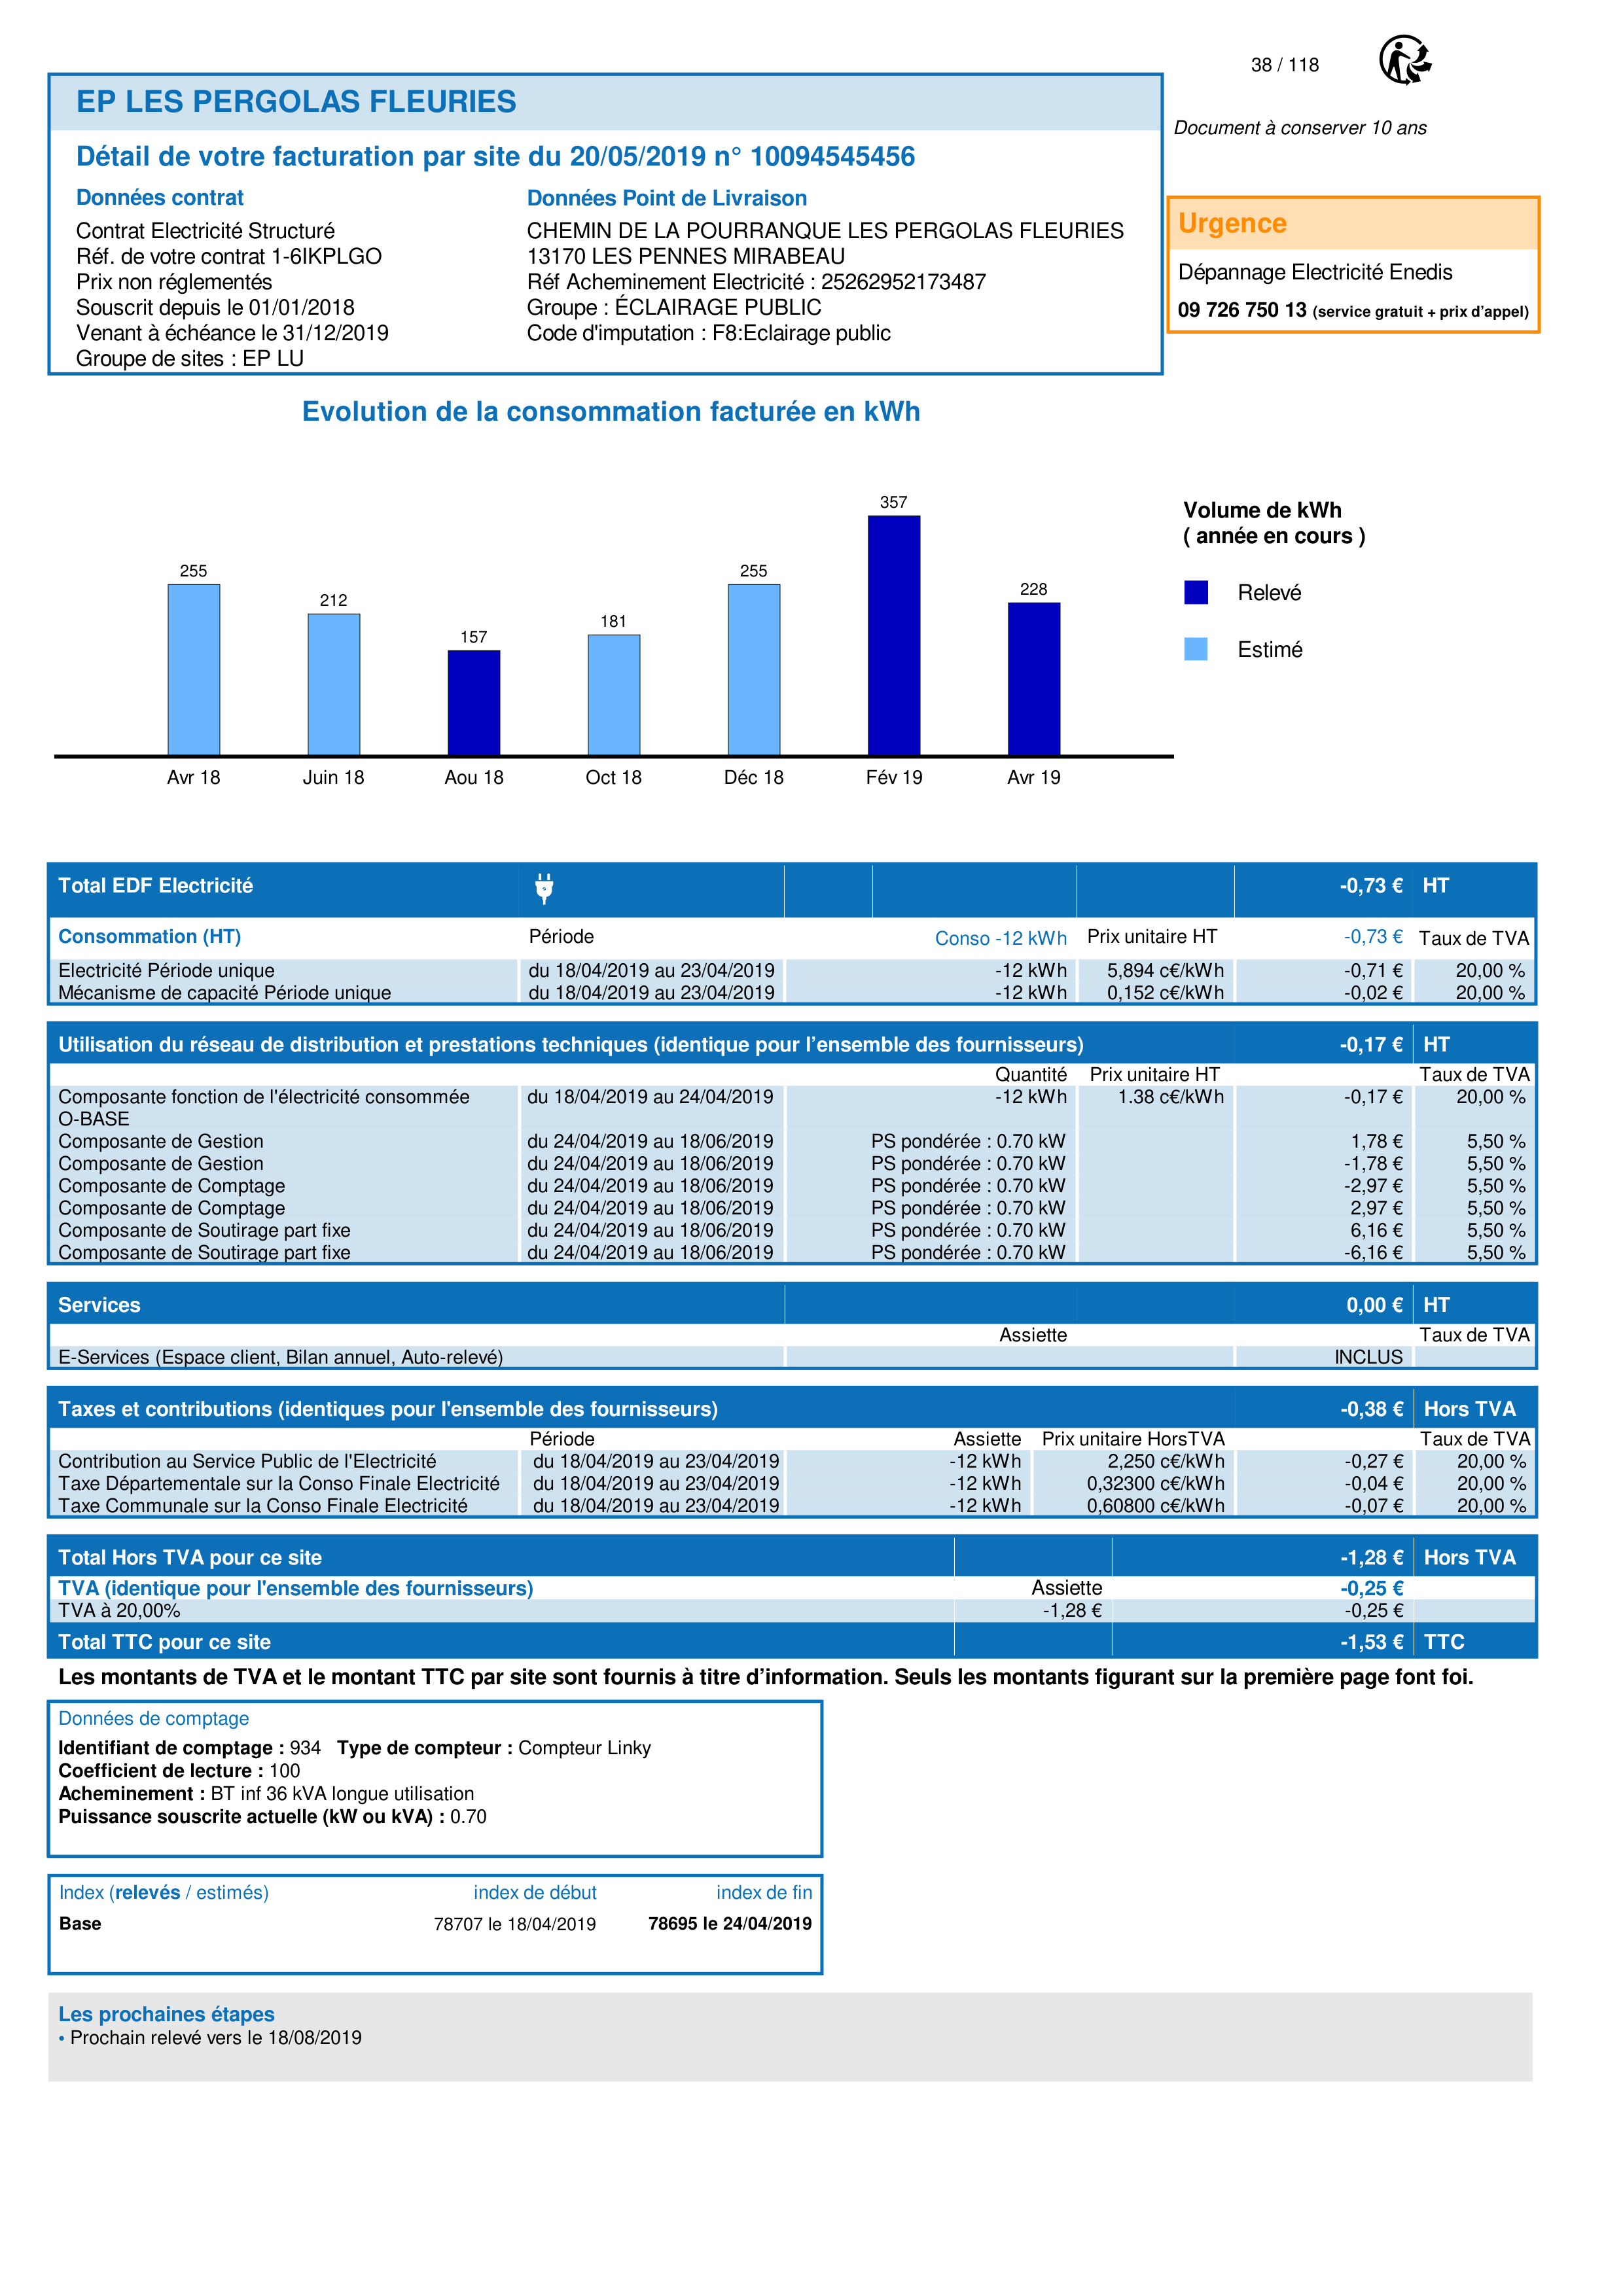area: (47, 1874, 824, 1973)
type_indicator: (47, 1874, 284, 1908)
